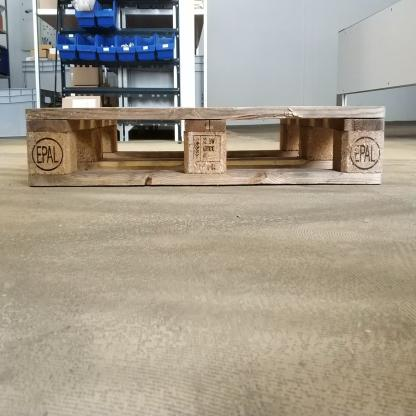BoxFace: (21, 104, 390, 190)
